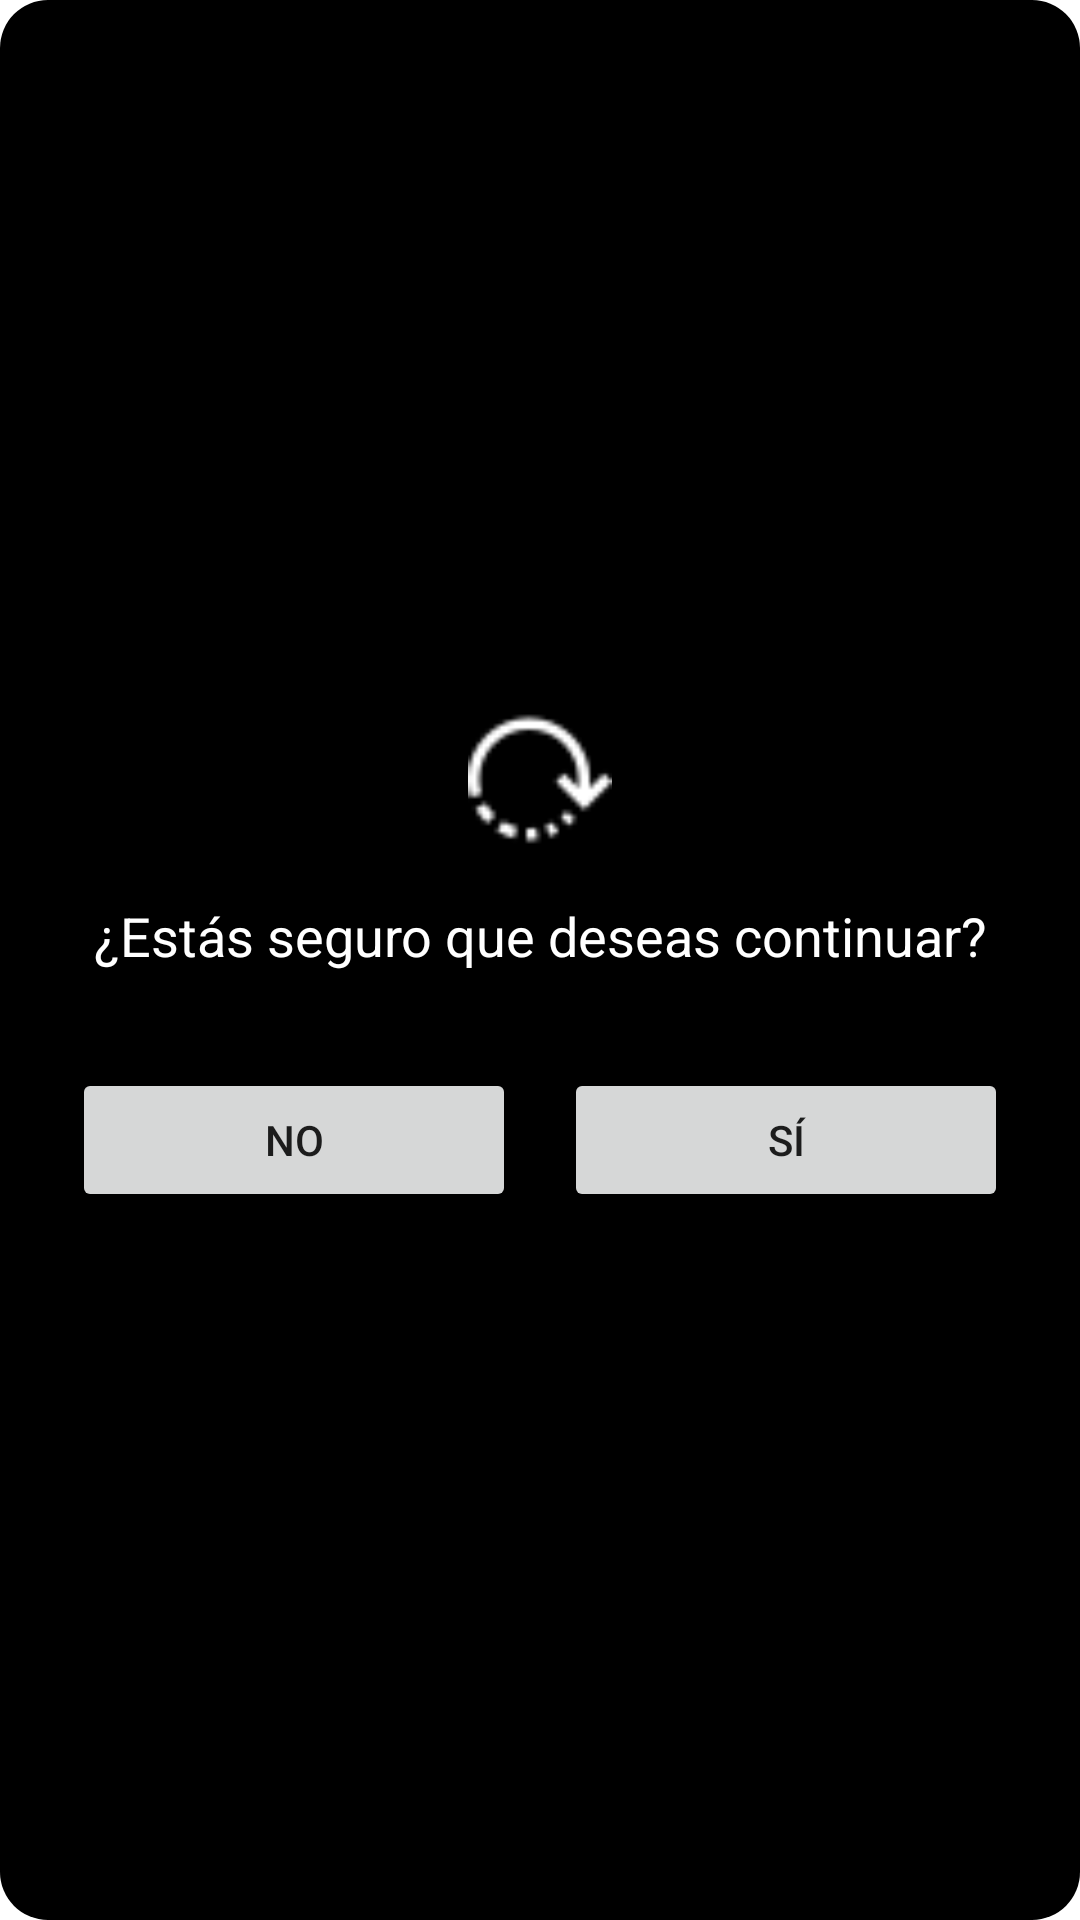

Screen size 1080px×1920px. Icon name, then its box in pixels as detection(x1, y1, x2, y2):
reset: detection(468, 715, 612, 843)
